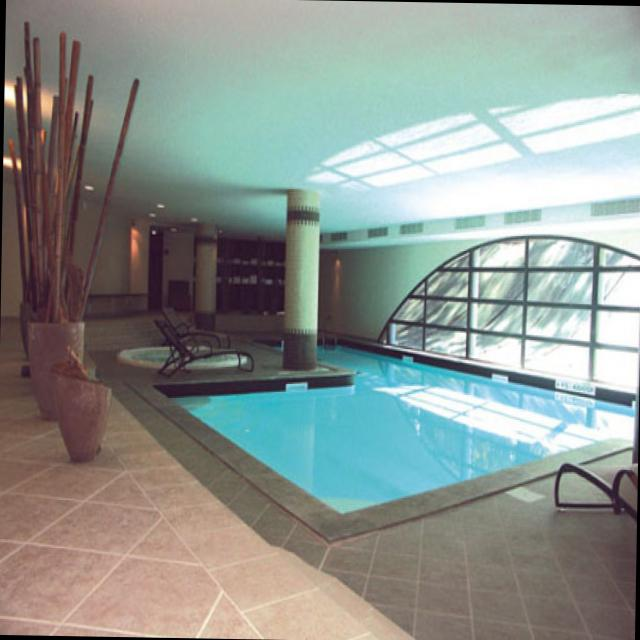2001: (378, 233, 640, 393)
cane: (76, 75, 142, 321)
canes: (10, 19, 96, 316)
ceiling beam: (8, 0, 640, 235)
column occluded: (283, 185, 320, 369), (195, 225, 218, 321)
deck chair: (157, 317, 254, 375)
door bars: (149, 224, 165, 304)
floor -X: (0, 327, 637, 640)
heated swimming pool: (156, 337, 637, 512)
plant pot: (28, 315, 86, 418)
plant pot occlued: (53, 364, 113, 460)
steps: (2, 306, 195, 356)
wall clock: (300, 184, 640, 406), (3, 174, 286, 329)
